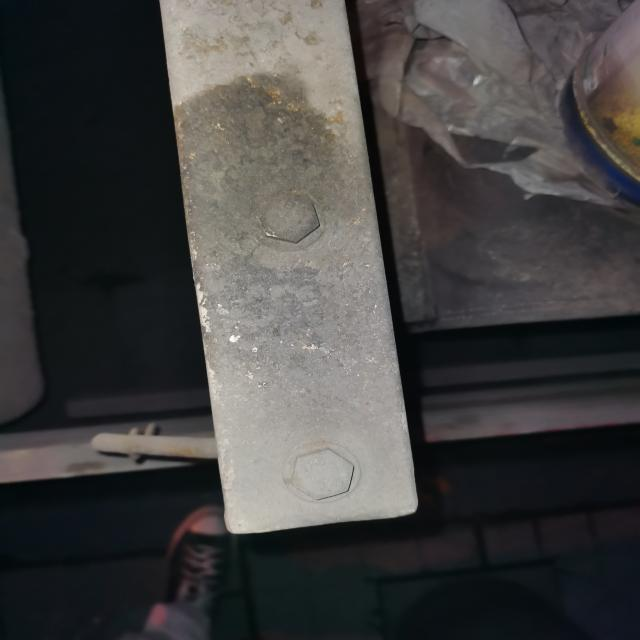bolt head: (288, 446, 356, 502), (255, 191, 322, 246)
